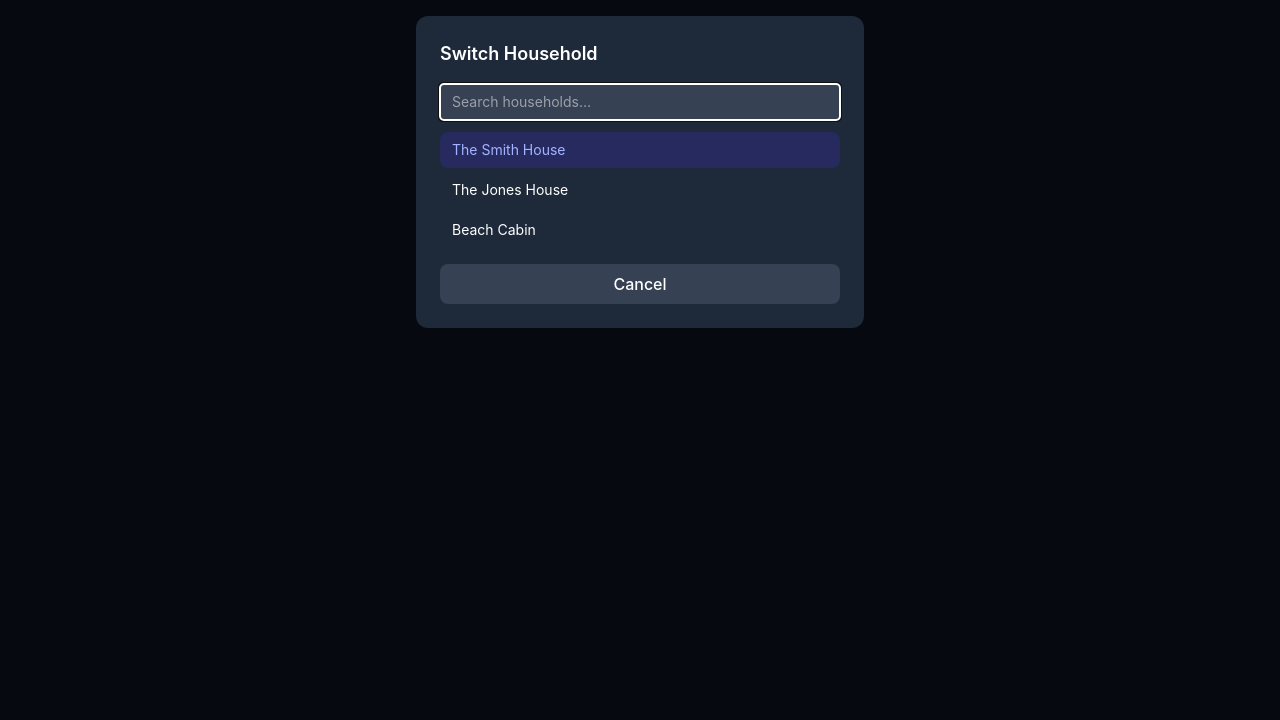
SwitchHouseholdModal › shows a message when no household matches the search
The width and height of the screenshot is (1280, 720).
Step 1. Type "nonexistent" into the field labelled "Search households" → (640, 102), box 440,84 -> 840,120
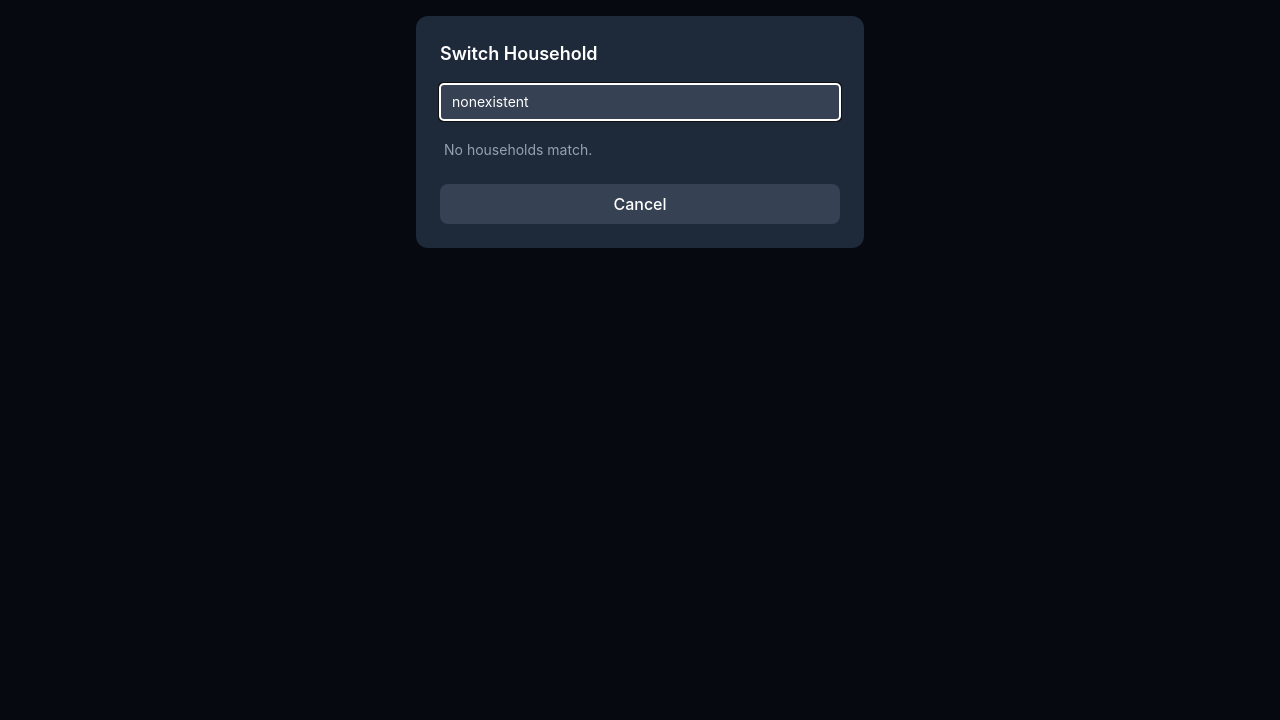
Now the text "No households match." is shown, box 444,141 -> 592,158
